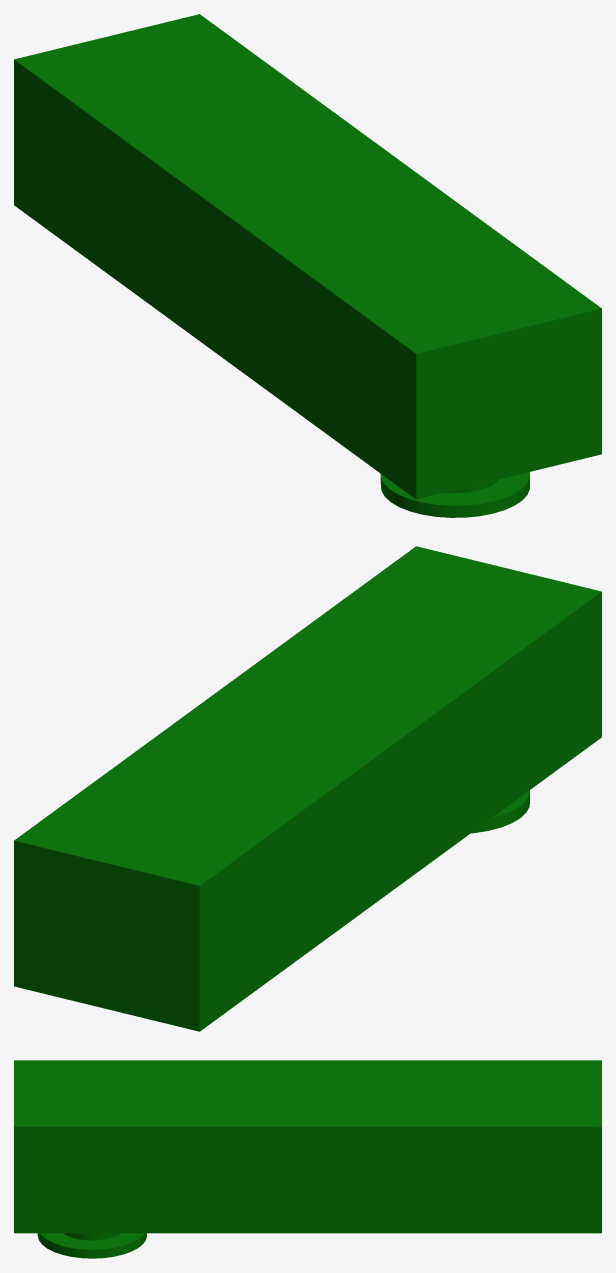
The model's file is Image-1710907747220-2281184214768_WD-DRAINBOX4.fbx.
3 views of the same model, one above another, from view 1: azimuth 30°, elevation 25°; view 2: azimuth 150°, elevation 25°; view 3: azimuth 270°, elevation 25° (orthographic). The views are drawn at different scales.
Parts seen in each view (by area): view 1: BOX 1 of EQUIPMENT /WD-DRAINBOX4, /WD-DRAINBOX1/N4; view 2: BOX 1 of EQUIPMENT /WD-DRAINBOX4, /WD-DRAINBOX1/N4; view 3: BOX 1 of EQUIPMENT /WD-DRAINBOX4, /WD-DRAINBOX1/N4.
Part boxes in pixels (x1,y1,x2,y2): BOX 1 of EQUIPMENT /WD-DRAINBOX4: (14,14,601,499); /WD-DRAINBOX1/N4: (380,273,529,517); BOX 1 of EQUIPMENT /WD-DRAINBOX4: (14,546,601,1031); /WD-DRAINBOX1/N4: (410,589,529,833); BOX 1 of EQUIPMENT /WD-DRAINBOX4: (14,1060,601,1233); /WD-DRAINBOX1/N4: (37,1079,146,1258).
Size of the model in its own units: 0.4 by 1.5 by 0.4.
